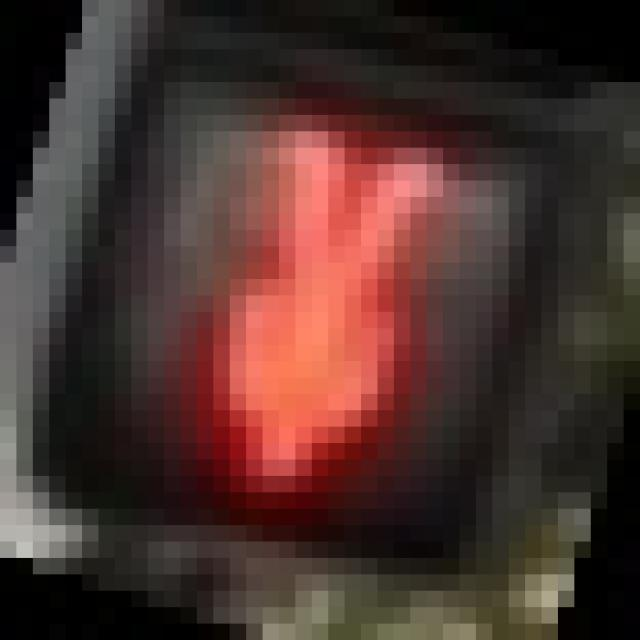red_light: (99, 49, 492, 542)
